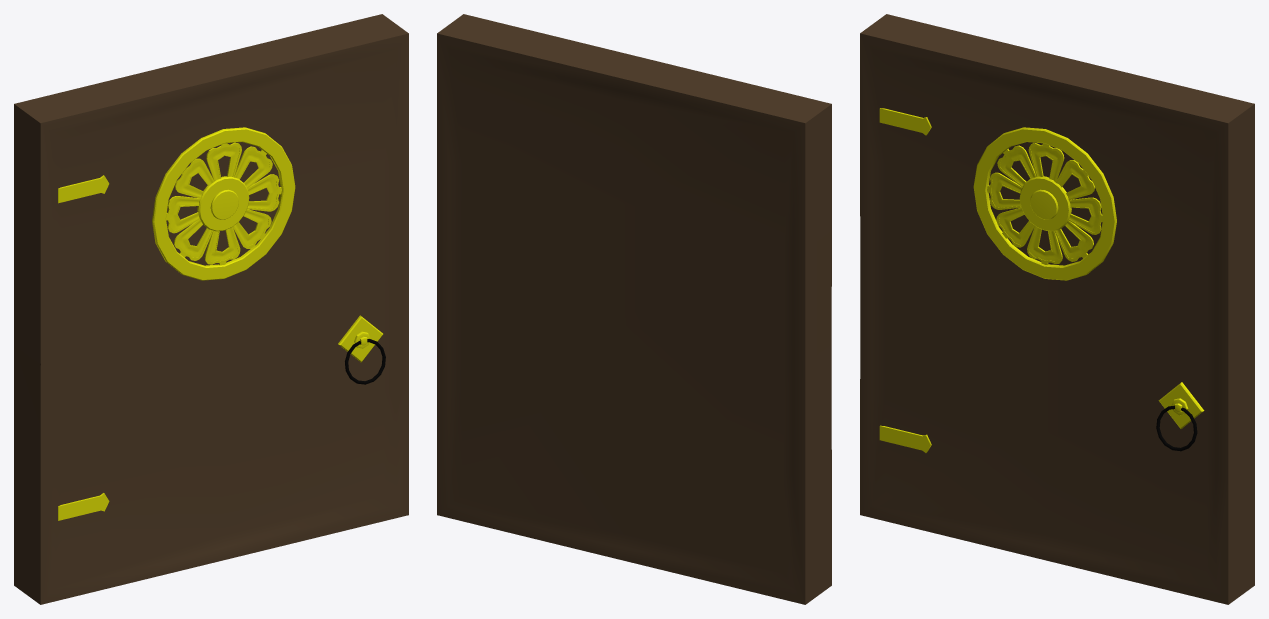
The model's file is geo_L_main_door.fbx.
The picture shows the model from 3 angles, left to right: view 1: azimuth 30°, elevation 25°; view 2: azimuth 150°, elevation 25°; view 3: azimuth 330°, elevation 25°; orthographic projection.
Visible parts, largest first — view 1: geo_L_door_01, geo_door_lotus_02, geo_door_handle_01, geo_door_mold_03, geo_door_mold_01; view 2: geo_L_door_01; view 3: geo_L_door_01, geo_door_lotus_02, geo_door_handle_01, geo_door_mold_03, geo_door_mold_01.
Boxes of the visible parts, box(x1,y1,x2,y2) form: geo_L_door_01: box(14, 14, 408, 604); geo_door_lotus_02: box(152, 127, 295, 280); geo_door_handle_01: box(338, 315, 385, 384); geo_door_mold_03: box(58, 175, 109, 203); geo_door_mold_01: box(58, 493, 109, 520); geo_L_door_01: box(437, 14, 831, 604); geo_L_door_01: box(860, 14, 1254, 604); geo_door_lotus_02: box(973, 127, 1116, 280); geo_door_handle_01: box(1156, 382, 1204, 451); geo_door_mold_03: box(879, 108, 931, 135); geo_door_mold_01: box(879, 425, 931, 452).
Bounding box in the file's own units: 4 × 5 × 0.6277.
